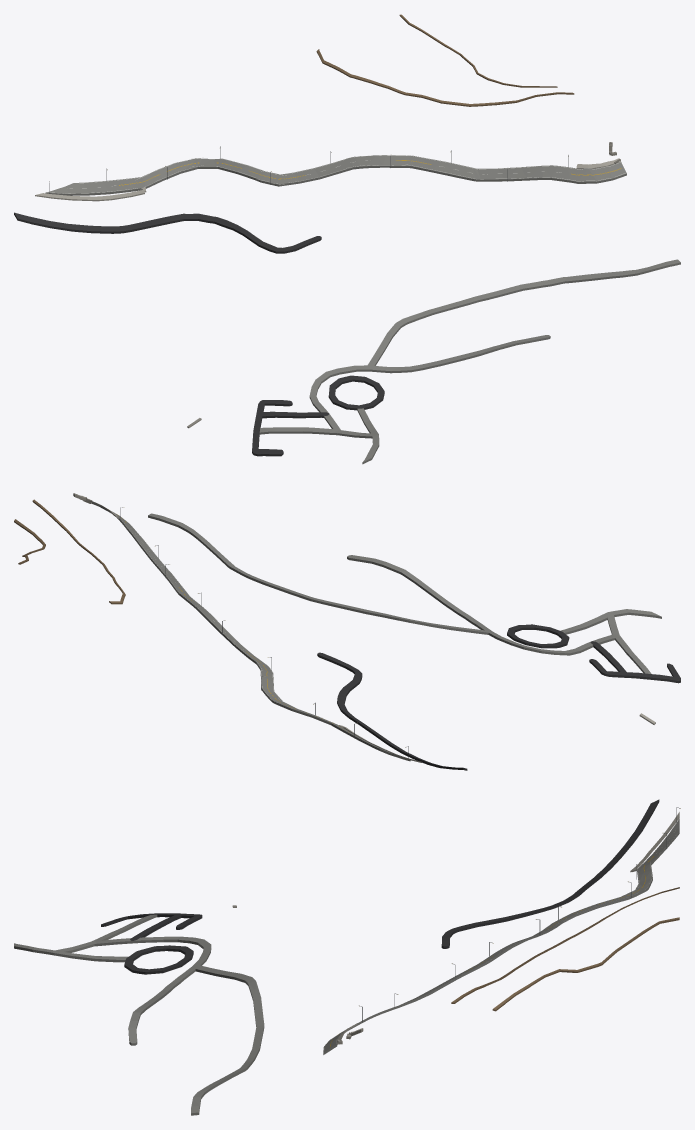
3 renders of one model, top to bottom at view 1: azimuth 30°, elevation 25°; view 2: azimuth 150°, elevation 25°; view 3: azimuth 270°, elevation 25°, orthographic. The views are drawn at different scales.
Bounding box in the file's own units: 294 × 108 × 292.
